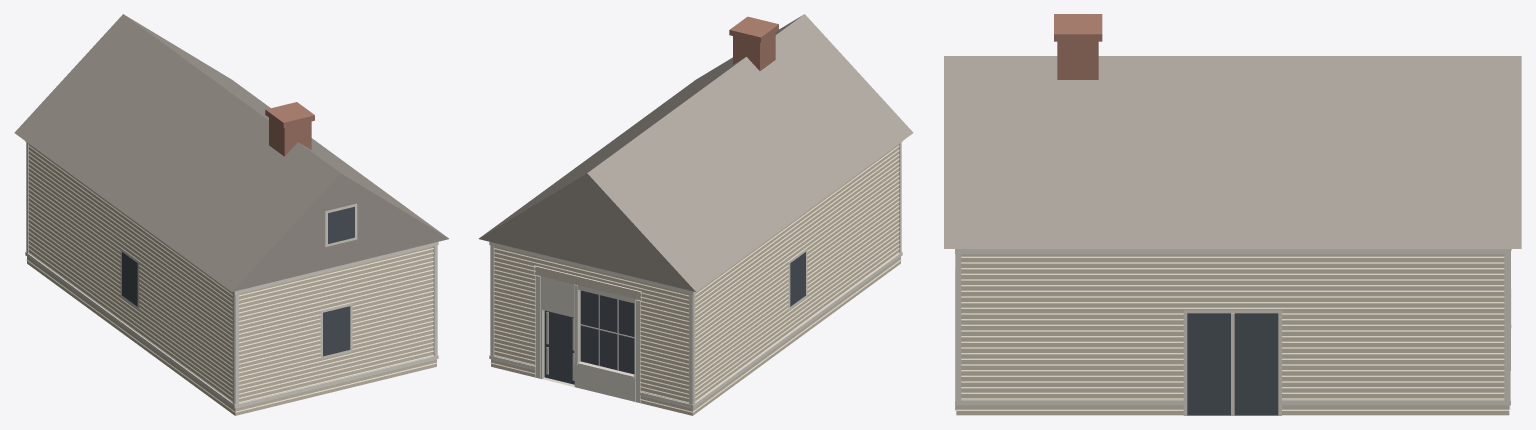
Rendered from recon_1835_north_c2_027__inferred_1835.glb.
3 views of the same model, side by side, from view 1: azimuth 30°, elevation 25°; view 2: azimuth 150°, elevation 25°; view 3: azimuth 270°, elevation 25° (orthographic). The views are drawn at different scales.
Parts seen in each view (by area): view 1: recon_1835_north_c2_027__inferred_1835; view 2: recon_1835_north_c2_027__inferred_1835; view 3: recon_1835_north_c2_027__inferred_1835.
Part boxes in pixels (x1=…): recon_1835_north_c2_027__inferred_1835: x1=14, y1=14, x2=449, y2=415; recon_1835_north_c2_027__inferred_1835: x1=478, y1=14, x2=913, y2=415; recon_1835_north_c2_027__inferred_1835: x1=944, y1=14, x2=1521, y2=415.
Bounding box in the file's own units: 6.78 × 7.29 × 11.76.
